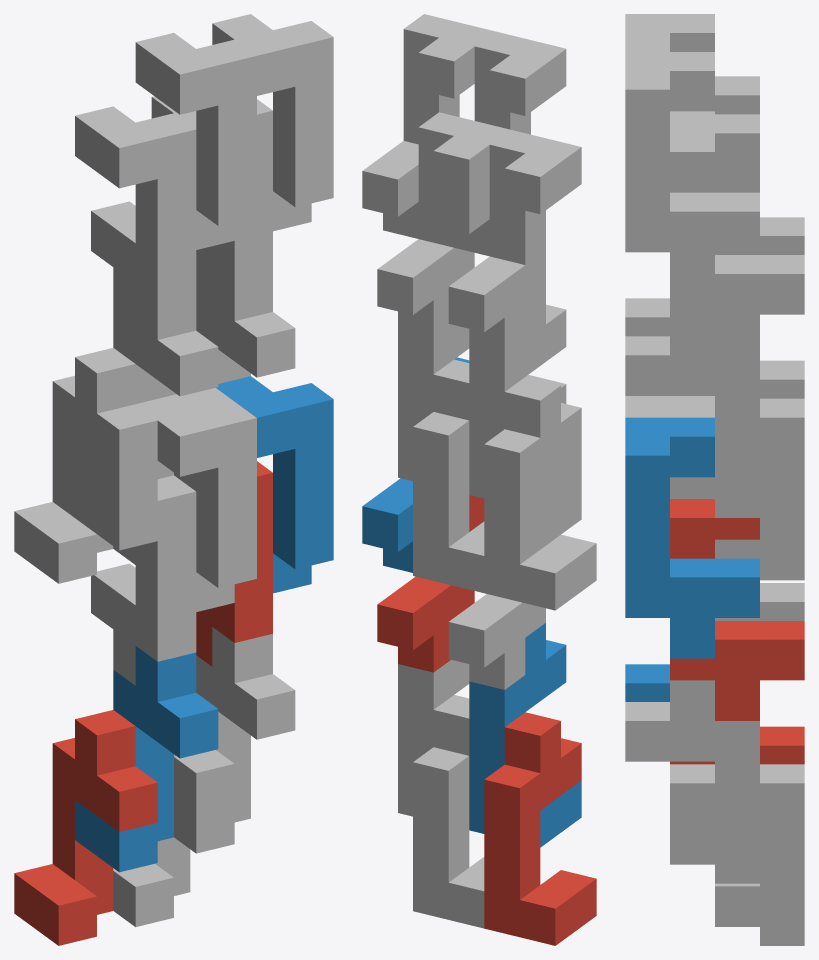
The model's file is tiling.obj.
The picture shows the model from 3 angles, left to right: view 1: azimuth 30°, elevation 25°; view 2: azimuth 150°, elevation 25°; view 3: azimuth 270°, elevation 25°; orthographic projection. The views are drawn at different scales.
Visible parts, largest first — view 1: copy_2_domain_3, copy_1_domain_1, copy_2_domain_1, copy_1_domain_3, copy_2_domain_4, copy_2_domain_2, copy_2_domain_8, copy_2_domain_6, copy_1_domain_2, copy_1_domain_4, copy_1_domain_6, copy_1_domain_8 (+4 smaller); view 2: copy_1_domain_1, copy_1_domain_3, copy_2_domain_3, copy_2_domain_7, copy_1_domain_7, copy_1_domain_5, copy_2_domain_8, copy_2_domain_4, copy_1_domain_2, copy_1_domain_4, copy_2_domain_1, copy_2_domain_5 (+3 smaller); view 3: copy_2_domain_6, copy_2_domain_8, copy_1_domain_6, copy_1_domain_8, copy_2_domain_7, copy_1_domain_5, copy_2_domain_5, copy_1_domain_7, copy_2_domain_4, copy_2_domain_3, copy_2_domain_2, copy_1_domain_1 (+4 smaller).
Boxes of the visible parts, x1,y1,x2,y2 form: copy_2_domain_3: (75, 106, 196, 323); copy_1_domain_1: (14, 710, 157, 945); copy_2_domain_1: (75, 475, 196, 685); copy_1_domain_3: (14, 348, 157, 583); copy_2_domain_4: (135, 33, 256, 249); copy_2_domain_2: (136, 395, 256, 611); copy_2_domain_8: (212, 14, 333, 231); copy_2_domain_6: (216, 376, 333, 593); copy_1_domain_2: (75, 646, 218, 872); copy_1_domain_4: (75, 284, 218, 510); copy_1_domain_6: (174, 627, 295, 853); copy_1_domain_8: (174, 265, 295, 491); copy_1_domain_1: (484, 712, 596, 945); copy_1_domain_3: (484, 377, 596, 610); copy_2_domain_3: (448, 129, 581, 354); copy_2_domain_7: (377, 112, 509, 337); copy_1_domain_7: (413, 359, 484, 592); copy_1_domain_5: (413, 695, 484, 928); copy_2_domain_8: (362, 14, 494, 238); copy_2_domain_4: (433, 31, 566, 256); copy_1_domain_2: (469, 623, 581, 847); copy_1_domain_4: (469, 287, 581, 511); copy_2_domain_1: (448, 482, 581, 689); copy_2_domain_5: (377, 495, 484, 672); copy_2_domain_6: (625, 417, 759, 658); copy_2_domain_8: (625, 52, 759, 292); copy_1_domain_6: (625, 680, 759, 883); copy_1_domain_8: (625, 314, 759, 517); copy_2_domain_7: (670, 114, 804, 355); copy_1_domain_5: (670, 764, 804, 945); copy_2_domain_5: (670, 499, 804, 720); copy_1_domain_7: (670, 398, 804, 580); copy_2_domain_4: (625, 14, 759, 192); copy_2_domain_3: (670, 76, 804, 254); copy_2_domain_2: (625, 396, 759, 558); copy_1_domain_1: (670, 726, 804, 764).
Size of the model in its own units: 6 by 22 by 4.
